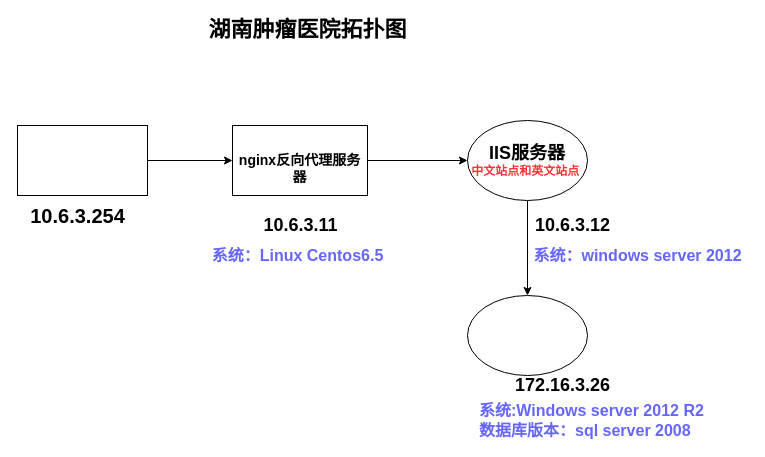
Image size: 765x457. Some labels were removed from this diagram. Here are the shapes that lost their labels. From the top down, the centre of each, then its label:
At (82,160): "nginx".
At (527,335): "数据库服务器".
